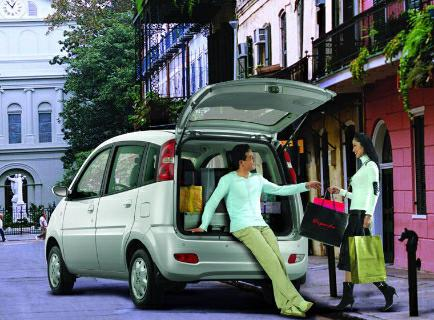昌河-爱迪尔: (37, 124, 316, 313)
